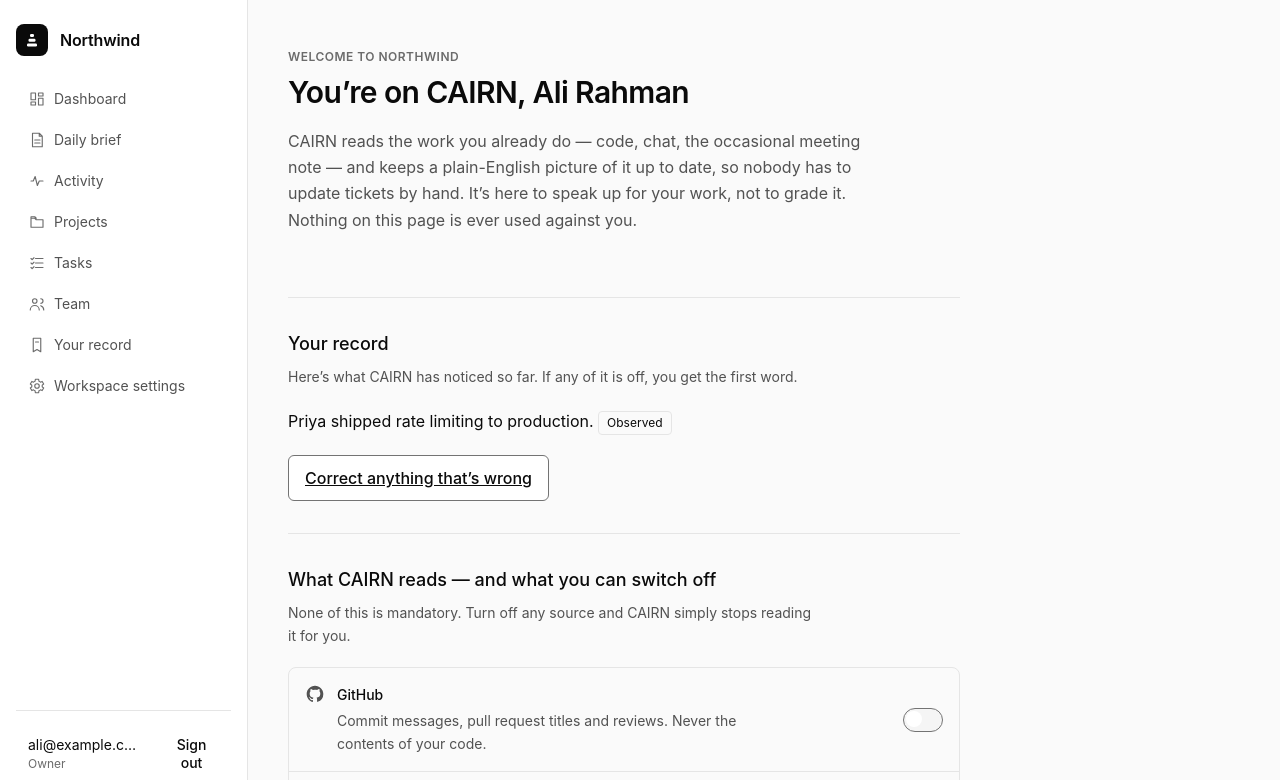
Scenario: inline per-source opt-out › says what the choice actually did
Expected: the heading "What CAIRN reads — and what you can switch off" is shown, [288, 569, 716, 590]
Step 1. Click the checkbox named "do not attribute" → (923, 720), box [903, 708, 943, 732]
(page scrolled)
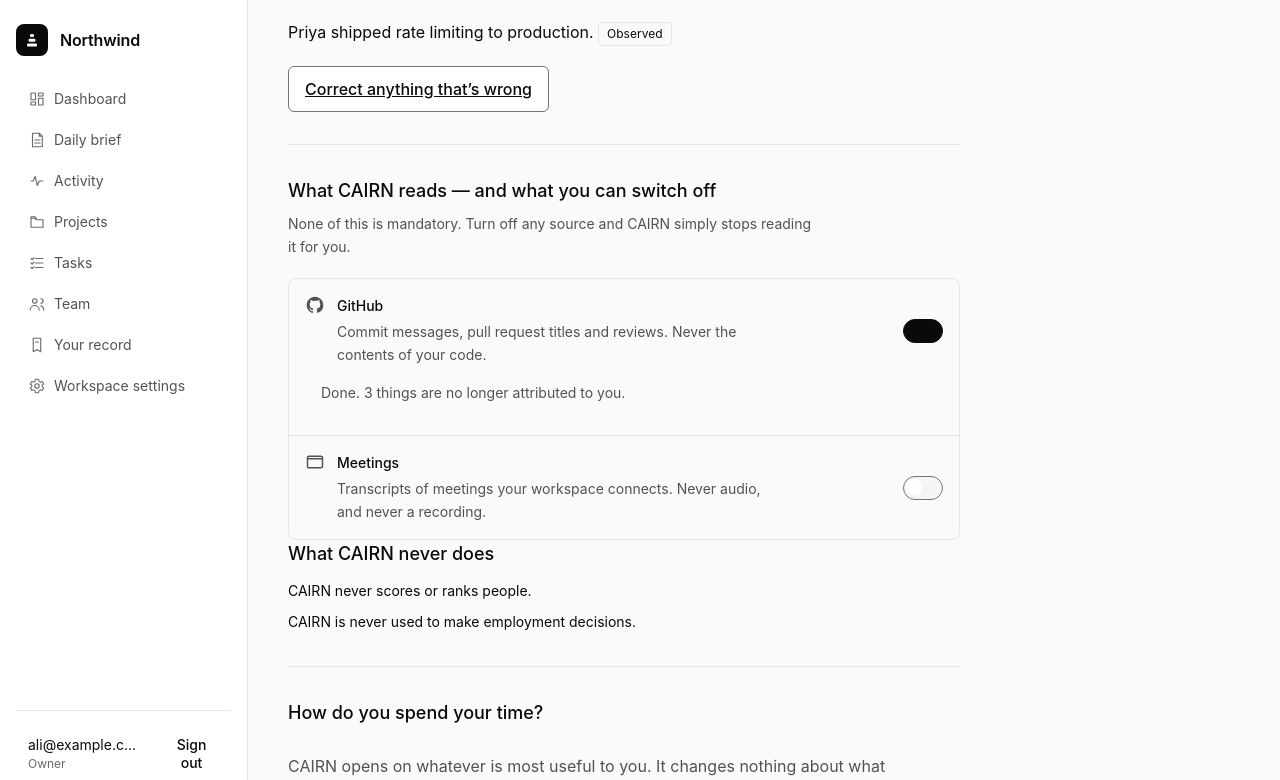
Expected: the message shows "3 things are no longer attributed to you", [321, 384, 625, 401]
